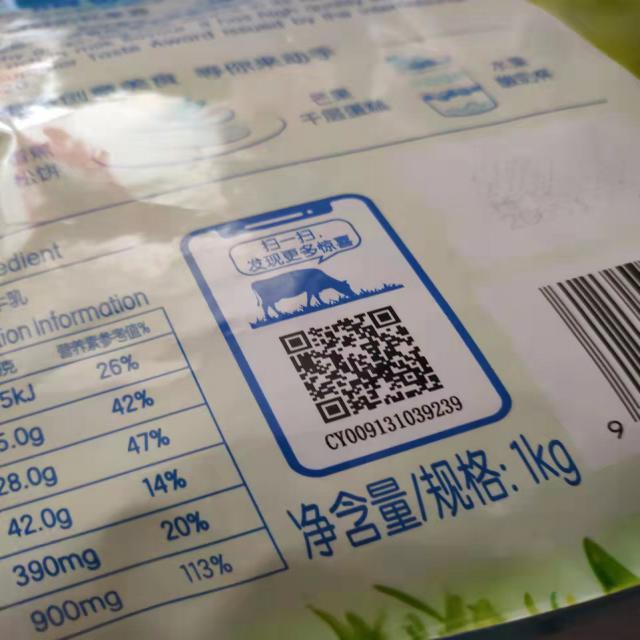qr_code: (278, 305, 444, 424)
